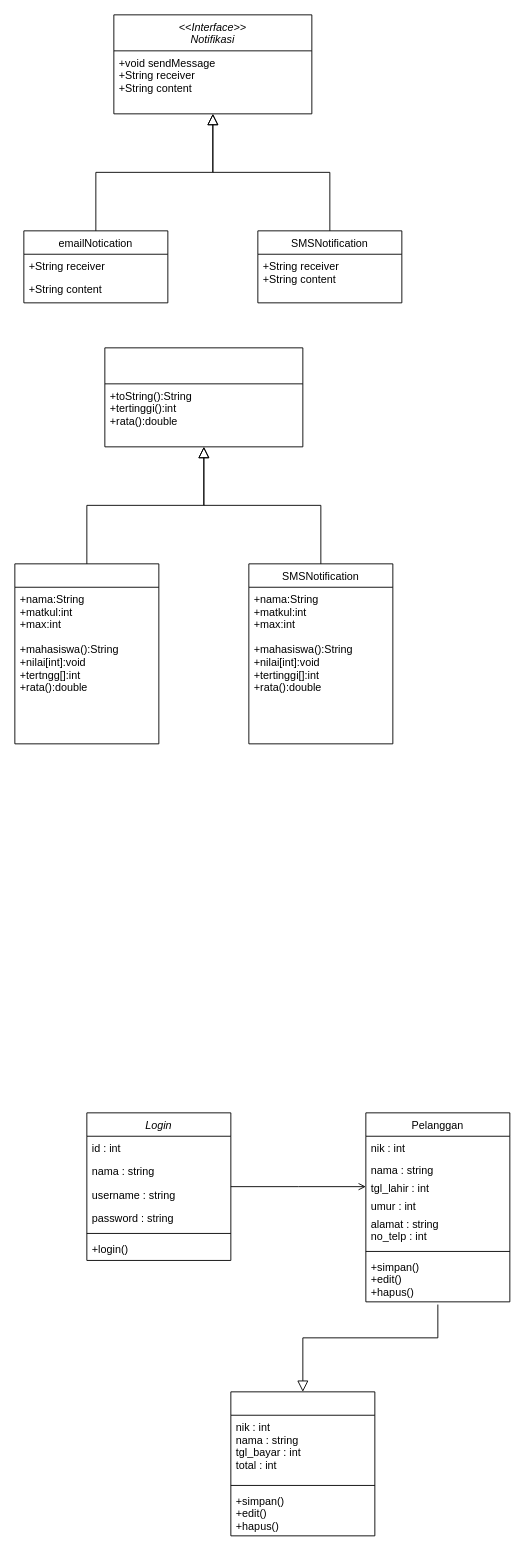
Some shapes in this 525 by 1551 pixel diagram are drawn without their labels. The box of each missing label's shape, as (x1, y1, x2, y2) in pixels:
Mahasiswa1: (14, 563, 159, 744)
Nilai: (104, 347, 303, 447)
Transaksi: (230, 1391, 375, 1536)
